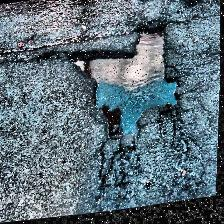pothole: (64, 22, 184, 160)
